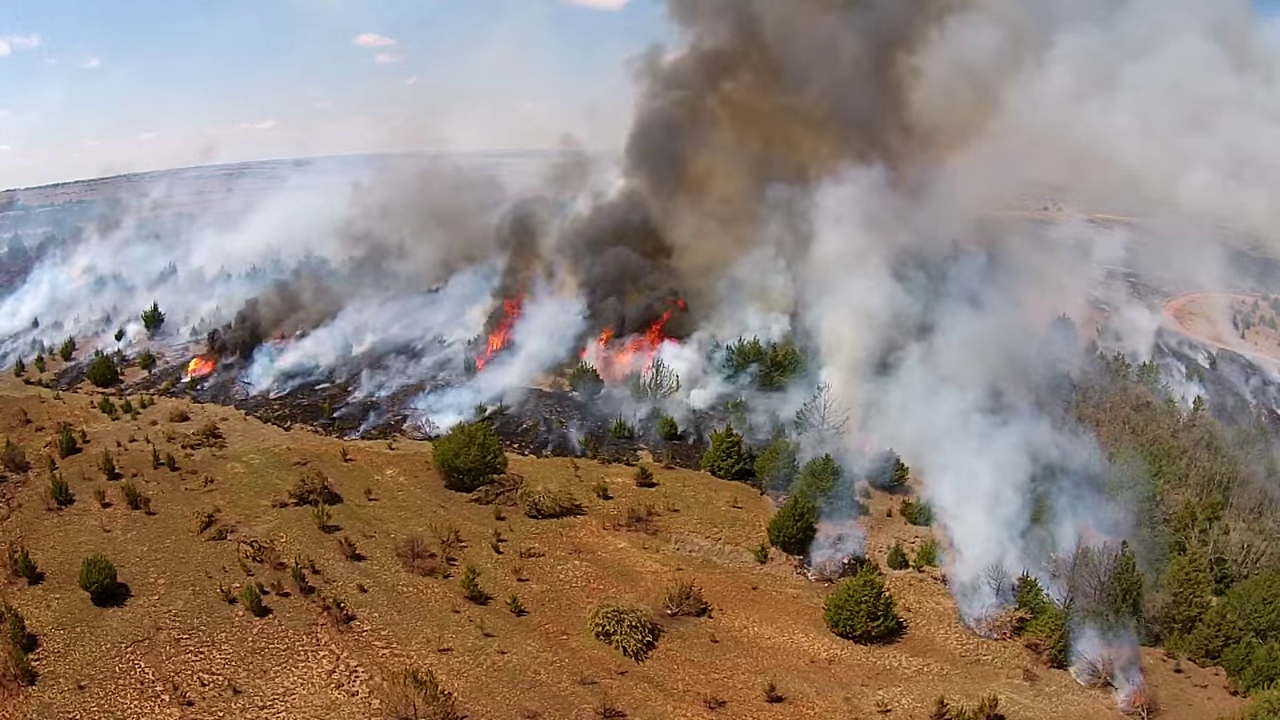forest_fire: (580, 298, 686, 380), (475, 294, 522, 369), (184, 354, 218, 378)
